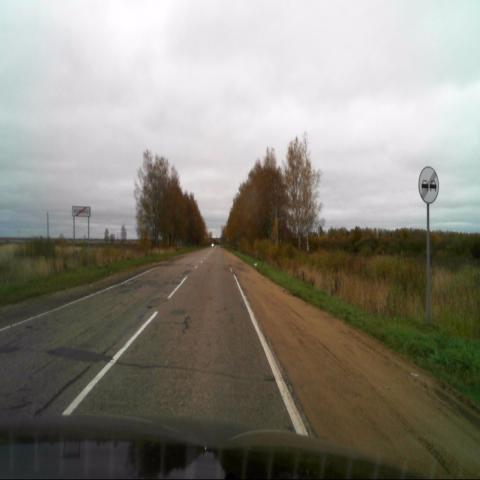3_21: (419, 166, 440, 206)
